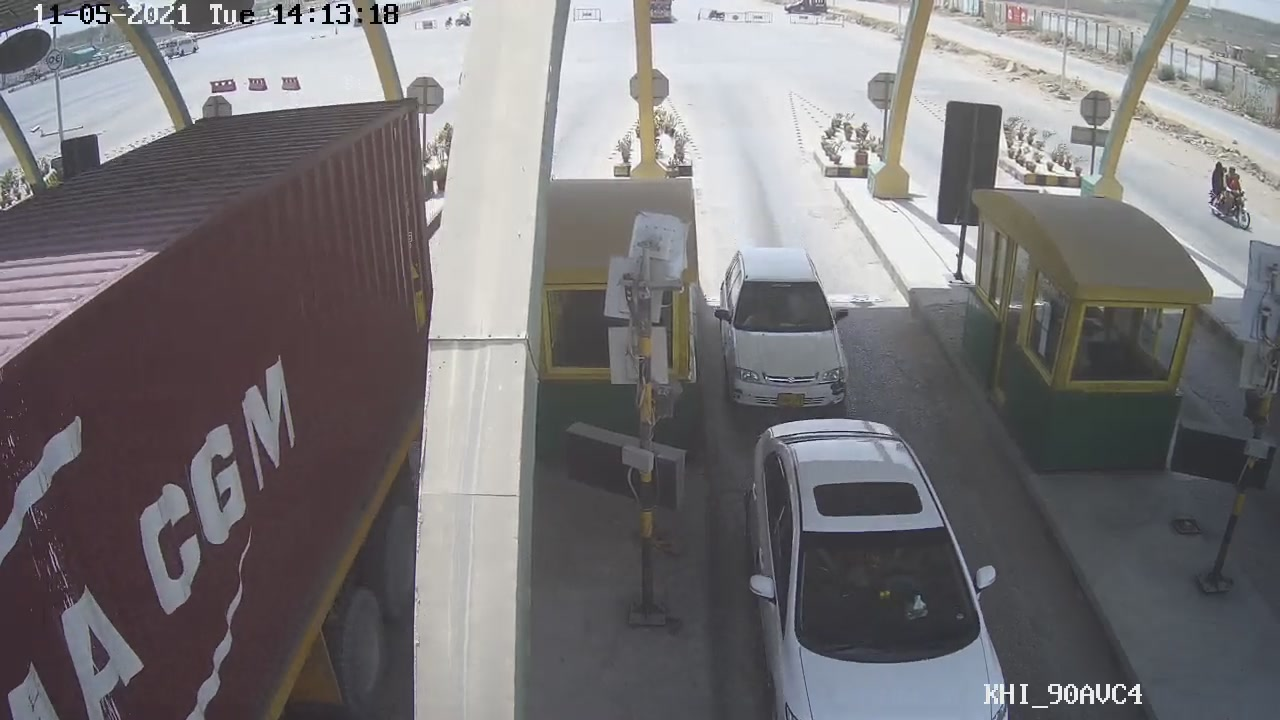F1: (709, 237, 868, 415)
